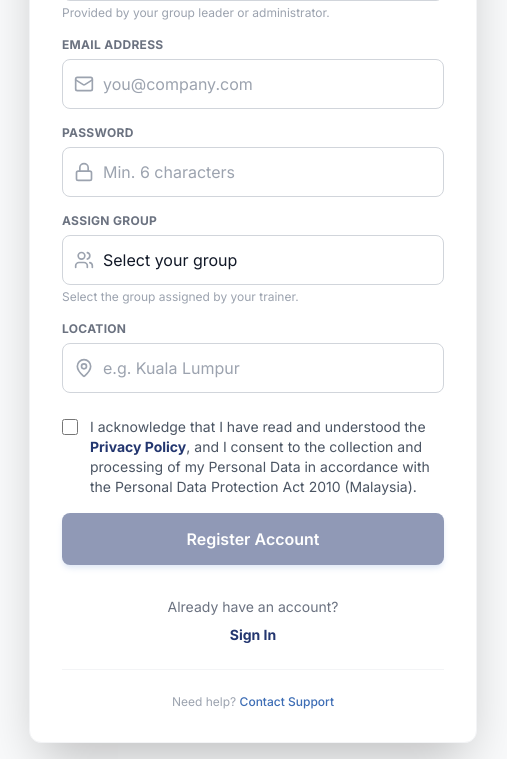
Signup — form renders › submit button is disabled until PDPA checkbox is checked
(page scrolled)
Expected: the button "Register Account" is disabled, top-left (62, 513), bottom-right (444, 565)
What coordinates should you click on to do the following:
click the checkbox
I would click on:
 (70, 427)
Its box is top-left (62, 419), bottom-right (78, 435).
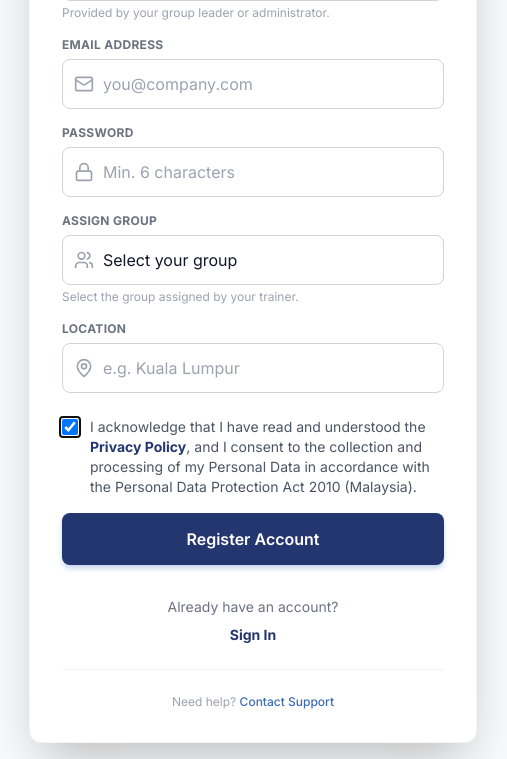
Expected: the button "Register Account" is enabled, top-left (62, 513), bottom-right (444, 565)
